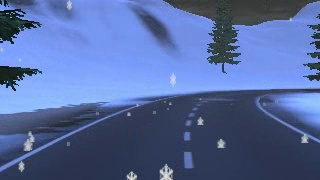Lane: (1, 89, 319, 179)
